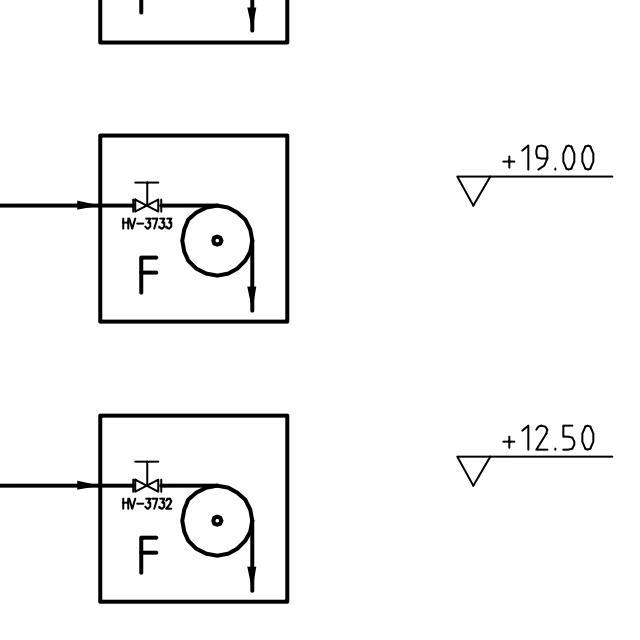HVWT: (128, 175, 165, 215), (132, 453, 165, 493)
